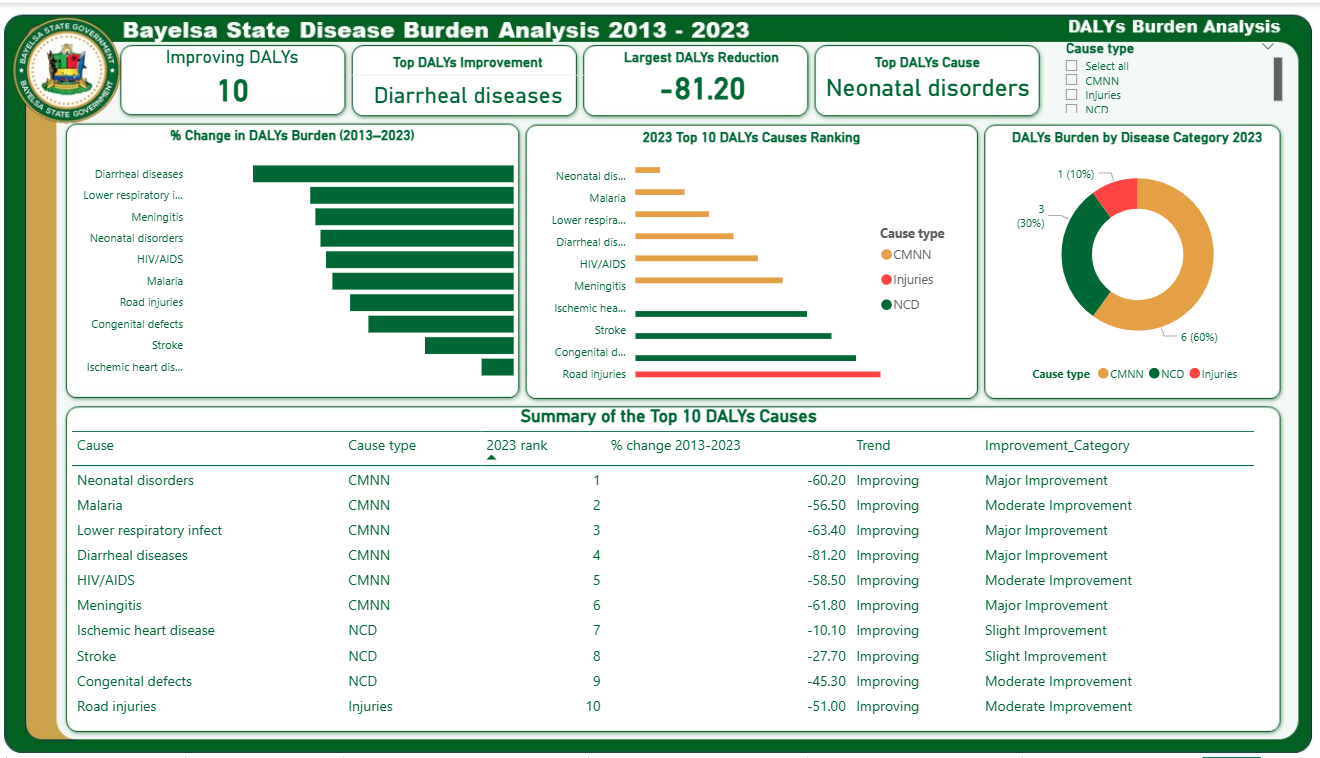

Layout of this report page (visuals, bound fields, positions):
{"tool":"powerbi","page":{"name":"DALYs Burden Analysis ","canvas":[1280,720],"ordinal":2},"visuals":[{"type":"card","title":"Top DALYs Improvement","fields":{"Values":["DALYs Data.Top DALYs Improvement"]},"box":[336,48,224,56],"z":0},{"type":"card","title":"Improving DALYs ","fields":{"Values":["DALYs Data.Improving DALYs"]},"box":[127,41,192,60],"z":1000},{"type":"card","title":"Largest DALYs Reduction","fields":{"Values":["DALYs Data.Largest DALYs Reduction"]},"box":[576,44,192,55],"z":2000},{"type":"card","title":"Top DALYs Cause","fields":{"Values":["_Measures.Top DALYs Cause"]},"box":[784,48,208,48],"z":3000},{"type":"clusteredBarChart","title":"% Change in DALYs Burden (2013–2023)","fields":{"Category":["DALYs Data.Cause"],"Y":["DALYs Data.DALYs Pct Change"],"Series":["DALYs Data.Trend"]},"box":[64,119,432,250],"z":4000},{"type":"clusteredBarChart","title":"2023 Top 10 DALYs Causes Ranking","fields":{"Category":["DALYs Data.Cause"],"Y":["Sum(DALYs Data.2023 rank)"],"Series":["DALYs Data.Cause type"]},"box":[511,120,416,256],"z":5000},{"type":"donutChart","title":"DALYs Burden by Disease Category 2023","fields":{"Category":["DALYs Data.Cause type"],"Y":["CountNonNull(DALYs Data.2023 rank)"]},"box":[944,120,288,251],"z":6000},{"type":"tableEx","title":"Summary of the Top 10 DALYs Causes","fields":{"Values":["DALYs Data.Cause","DALYs Data.Cause type","DALYs Data.2023 rank","DALYs Data.% change 2013-2023","DALYs Data.Trend","DALYs Data.Improvement_Category"]},"box":[64,384,1152,304],"z":7000},{"type":"slicer","fields":{"Values":["DALYs Data.Cause type"]},"box":[1007,30,224,80],"z":8000}]}

Visuals, with their boxes in screenshot pixels (x1, y1, x2, y2), scaled from the page's 1280x720 canvas onto the 1320x758 screenshot:
"Top DALYs Improvement" card: pyautogui.locateOnScreen(346, 51, 578, 109)
"Improving DALYs " card: pyautogui.locateOnScreen(131, 43, 329, 106)
"Largest DALYs Reduction" card: pyautogui.locateOnScreen(594, 46, 792, 104)
"Top DALYs Cause" card: pyautogui.locateOnScreen(808, 51, 1023, 101)
"% Change in DALYs Burden (2013–2023)" clusteredBarChart: pyautogui.locateOnScreen(66, 125, 512, 388)
"2023 Top 10 DALYs Causes Ranking" clusteredBarChart: pyautogui.locateOnScreen(527, 126, 956, 396)
"DALYs Burden by Disease Category 2023" donutChart: pyautogui.locateOnScreen(974, 126, 1270, 391)
"Summary of the Top 10 DALYs Causes" tableEx: pyautogui.locateOnScreen(66, 404, 1254, 724)
slicer - DALYs Data.Cause type: pyautogui.locateOnScreen(1038, 32, 1269, 116)
